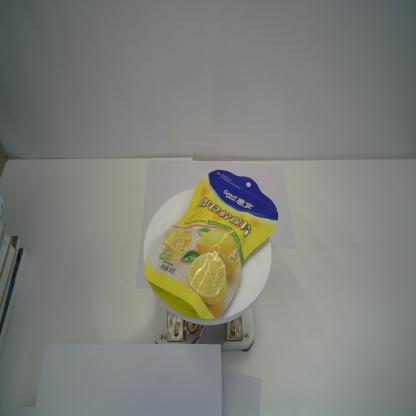Dried Fruit: (143, 169, 279, 321)
